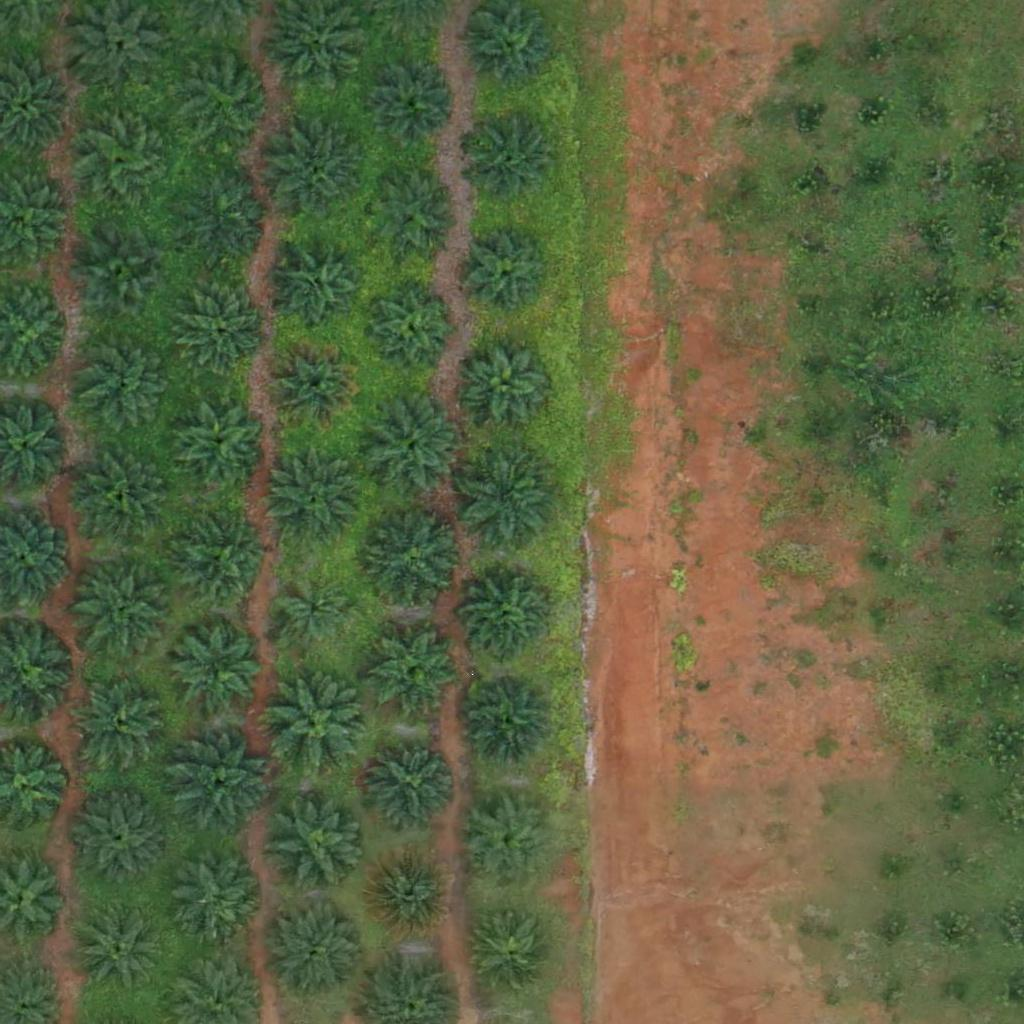Kelapa_Sawit: (266, 124, 366, 225), (270, 675, 370, 776), (170, 395, 270, 496), (171, 511, 271, 612), (169, 735, 269, 836), (76, 331, 176, 432), (73, 448, 173, 549), (72, 557, 172, 658), (71, 674, 171, 775), (69, 790, 169, 891), (268, 796, 368, 897), (266, 900, 366, 1001), (178, 50, 278, 150), (177, 170, 277, 270), (455, 445, 555, 545), (360, 397, 460, 497), (362, 511, 462, 611), (265, 449, 365, 549), (76, 112, 164, 200), (79, 231, 167, 319), (366, 60, 454, 148), (468, 116, 556, 204), (464, 230, 552, 318), (465, 340, 553, 428), (372, 627, 460, 715), (366, 737, 454, 825), (179, 287, 267, 375), (77, 904, 165, 992), (366, 848, 454, 936), (471, 911, 559, 999), (370, 172, 457, 260), (275, 244, 362, 332), (465, 577, 552, 665), (466, 674, 553, 762), (465, 800, 552, 888), (367, 283, 454, 371), (271, 341, 358, 429), (174, 623, 261, 711), (181, 851, 268, 939), (277, 577, 352, 653)
